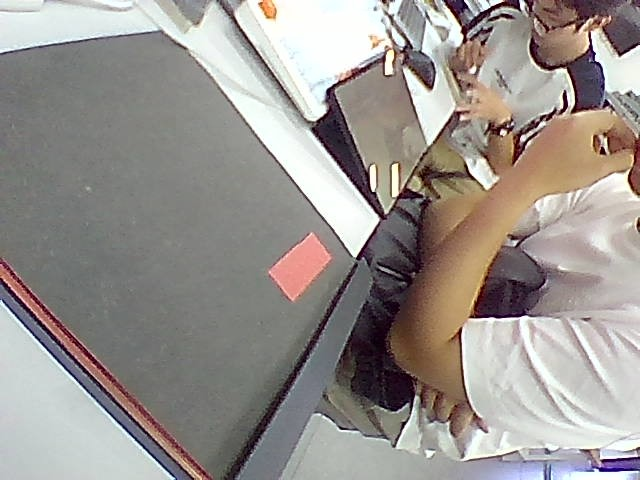card: (268, 231, 332, 302)
